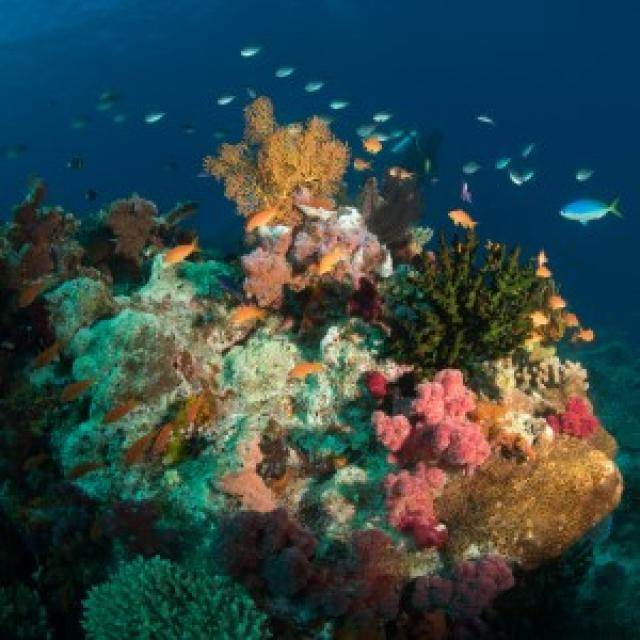Bleached: (50, 255, 253, 511), (223, 321, 372, 430)
Healthy: (436, 438, 622, 568), (385, 229, 556, 368), (225, 509, 406, 639), (374, 370, 490, 539), (244, 189, 391, 306), (206, 97, 349, 216), (84, 558, 268, 639), (496, 349, 605, 438), (402, 549, 515, 620), (93, 197, 176, 266)
